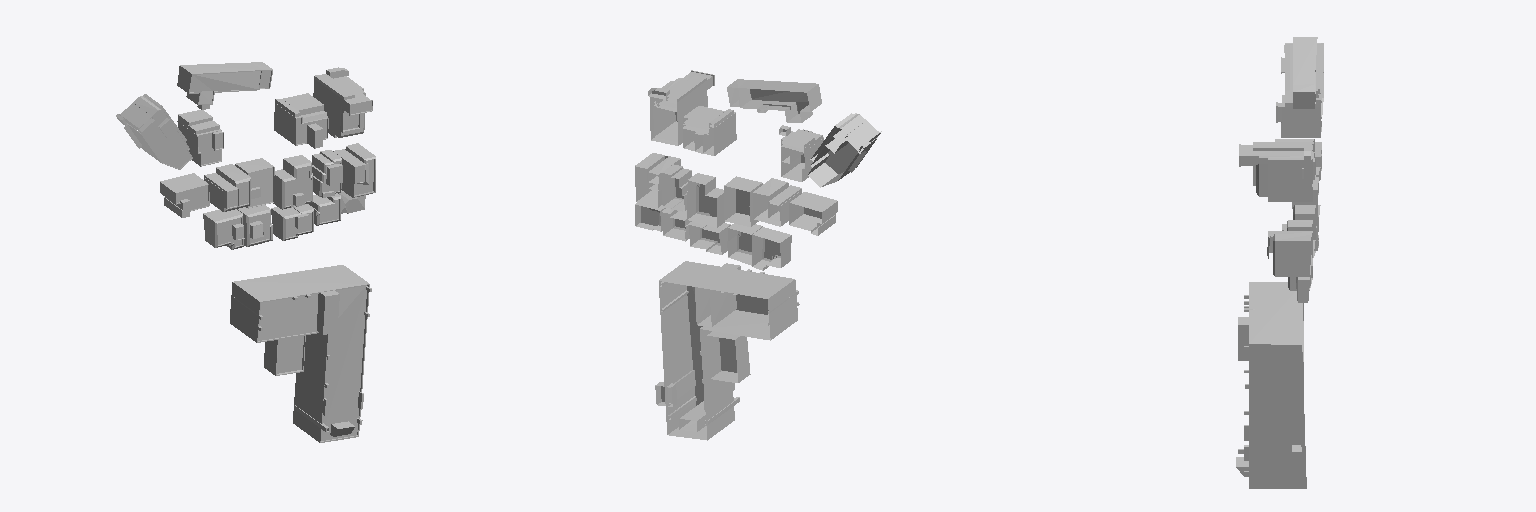
3 renders of one model, left to right at view 1: azimuth 30°, elevation 25°; view 2: azimuth 150°, elevation 25°; view 3: azimuth 270°, elevation 25°, orthographic.
Parts seen in each view (by area): view 1: [number redacted], [number redacted], [number redacted], [number redacted], [number redacted], [number redacted], [number redacted], [number redacted], [number redacted], [number redacted], [number redacted], [number redacted] (+6 smaller); view 2: [number redacted], [number redacted], [number redacted], [number redacted], [number redacted], [number redacted], [number redacted], [number redacted], [number redacted], [number redacted], [number redacted], [number redacted] (+6 smaller); view 3: [number redacted], [number redacted], [number redacted], [number redacted], [number redacted], [number redacted], [number redacted].
Part boxes in pixels (left/top/right/bottom): [number redacted]: left=230, top=265, right=369, bottom=442; [number redacted]: left=232, top=286, right=371, bottom=436; [number redacted]: left=116, top=94, right=192, bottom=169; [number redacted]: left=177, top=62, right=272, bottom=104; [number redacted]: left=313, top=67, right=372, bottom=137; [number redacted]: left=274, top=93, right=328, bottom=148; [number redacted]: left=177, top=105, right=223, bottom=166; [number redacted]: left=273, top=155, right=312, bottom=209; [number redacted]: left=333, top=143, right=375, bottom=197; [number redacted]: left=160, top=173, right=209, bottom=217; [number redacted]: left=203, top=209, right=244, bottom=249; [number redacted]: left=312, top=150, right=342, bottom=197; [number redacted]: left=659, top=261, right=797, bottom=440; [number redacted]: left=655, top=263, right=799, bottom=431; [number redacted]: left=648, top=70, right=714, bottom=145; [number redacted]: left=808, top=113, right=881, bottom=187; [number redacted]: left=727, top=79, right=821, bottom=122; [number redacted]: left=683, top=106, right=736, bottom=155; [number redacted]: left=779, top=125, right=823, bottom=181; [number redacted]: left=687, top=173, right=724, bottom=227; [number redacted]: left=789, top=192, right=837, bottom=235; [number redacted]: left=635, top=153, right=680, bottom=207; [number redacted]: left=752, top=227, right=791, bottom=270; [number redacted]: left=724, top=176, right=762, bottom=226; [number redacted]: left=1249, top=282, right=1306, bottom=488; [number redacted]: left=1239, top=142, right=1312, bottom=201; [number redacted]: left=1267, top=231, right=1312, bottom=276; [number redacted]: left=1293, top=37, right=1317, bottom=108; [number redacted]: left=1276, top=88, right=1321, bottom=137; [number redacted]: left=1236, top=295, right=1301, bottom=476; [number redacted]: left=1281, top=43, right=1323, bottom=118.
Bounding box in the file's own units: 89 × 137 × 28.5.